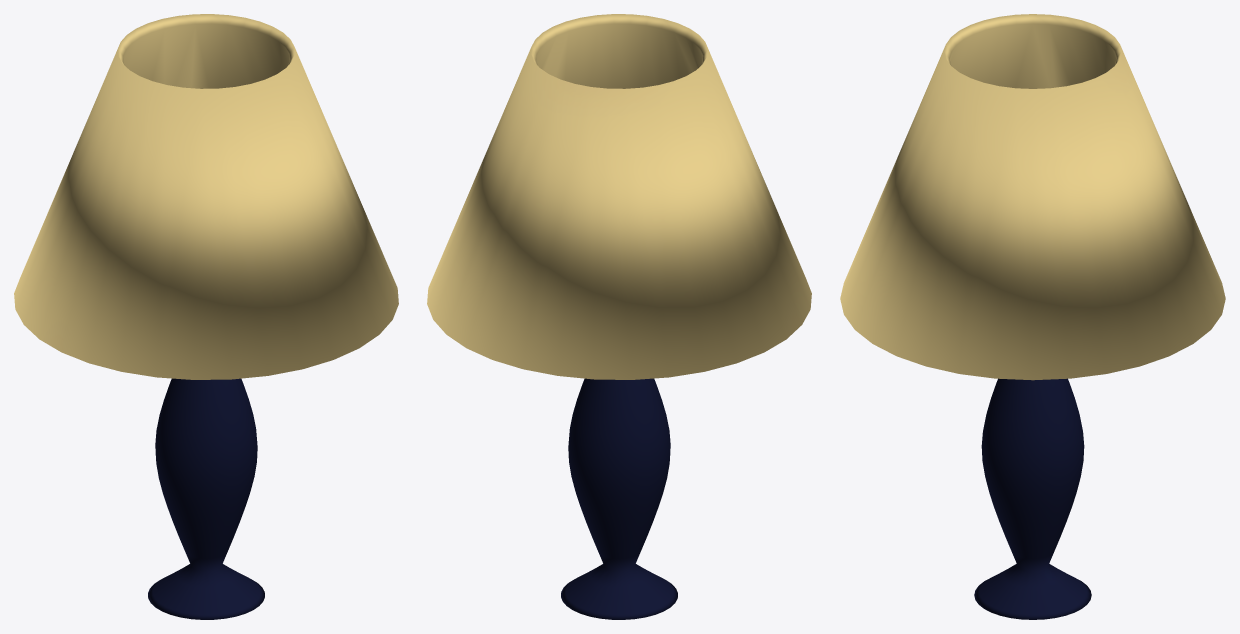
The model's file is lampshade.obj.
3 views of the same model, side by side, from view 1: azimuth 30°, elevation 25°; view 2: azimuth 150°, elevation 25°; view 3: azimuth 270°, elevation 25° (orthographic).
Visible parts, largest first — view 1: Cylinder; view 2: Cylinder; view 3: Cylinder.
Part boxes in pixels (left/top/right/bottom): Cylinder: left=14, top=14, right=398, bottom=619; Cylinder: left=427, top=14, right=811, bottom=619; Cylinder: left=840, top=14, right=1225, bottom=619.
Size of the model in its own units: 1.65 by 2.57 by 1.65.
1 material, 1 textured.
